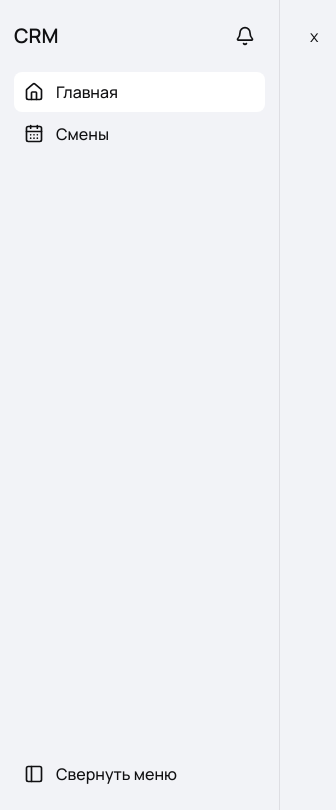
Test: AppShell: сворачивание меню › в свёрнутом виде у меню нет колокольчика
expect the button named "Уведомления" is shown: met, box [225,16,265,56]
Click the button "Свернуть меню" at (140,774), box [14,754,265,794]
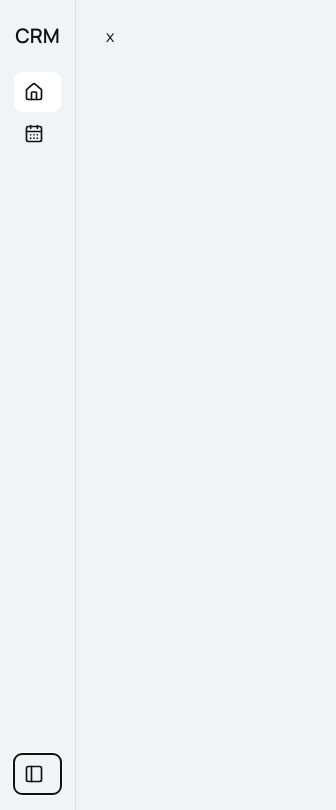
expect the button "Уведомления" is gone: met
